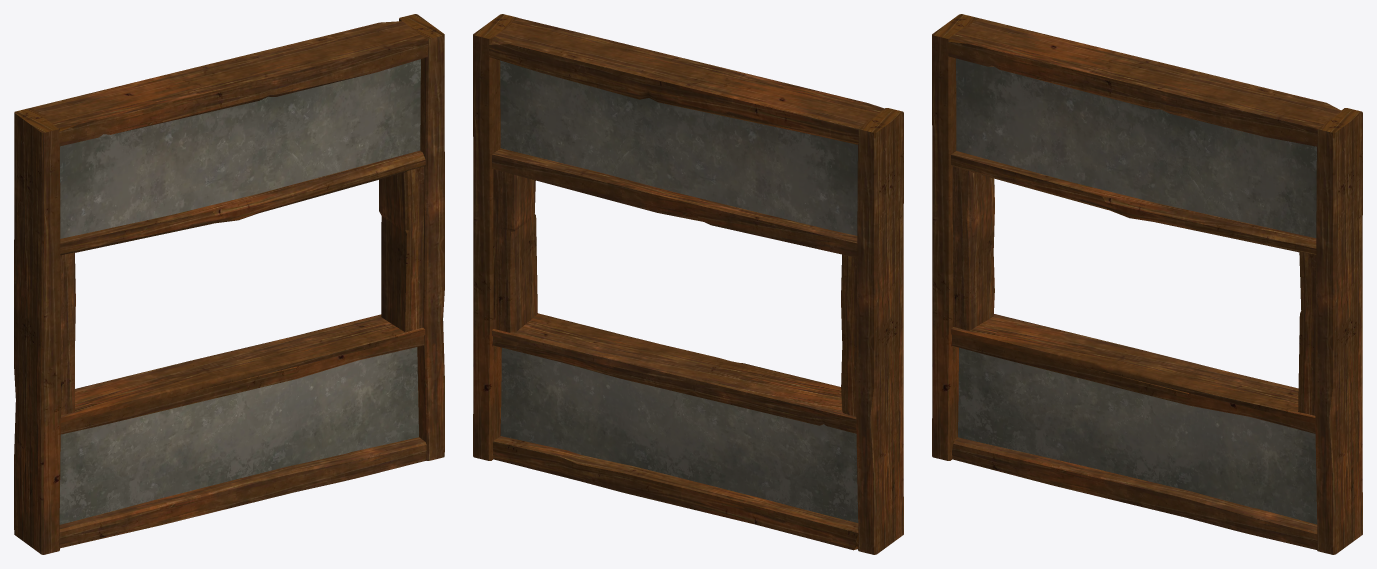
3 renders of one model, left to right at view 1: azimuth 30°, elevation 25°; view 2: azimuth 150°, elevation 25°; view 3: azimuth 330°, elevation 25°, orthographic.
Parts seen in each view (by area): view 1: SM_BB_T2_Wall_Windowframe_Double_LOD0; view 2: SM_BB_T2_Wall_Windowframe_Double_LOD0; view 3: SM_BB_T2_Wall_Windowframe_Double_LOD0.
Part boxes in pixels (x1=…): SM_BB_T2_Wall_Windowframe_Double_LOD0: x1=14, y1=14, x2=444, y2=554; SM_BB_T2_Wall_Windowframe_Double_LOD0: x1=473, y1=14, x2=903, y2=554; SM_BB_T2_Wall_Windowframe_Double_LOD0: x1=932, y1=14, x2=1362, y2=554.
Bounding box in the file's own units: 3 × 3 × 0.3803.
2 materials, 2 textured.
